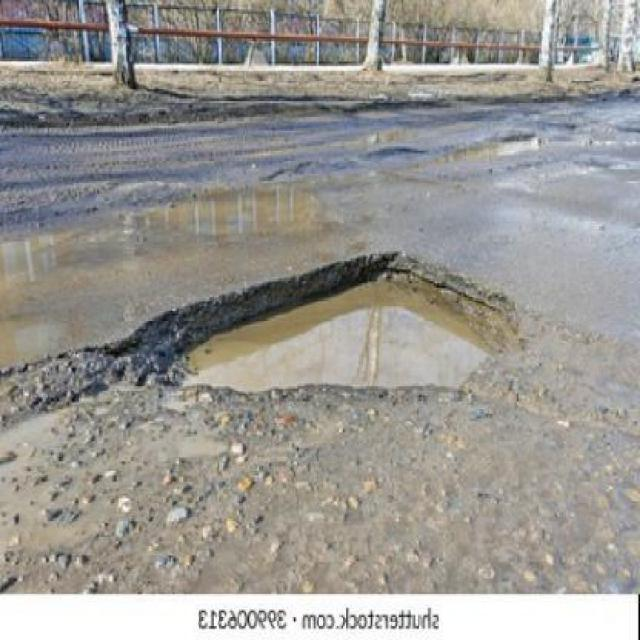pothole: (140, 250, 519, 405)
